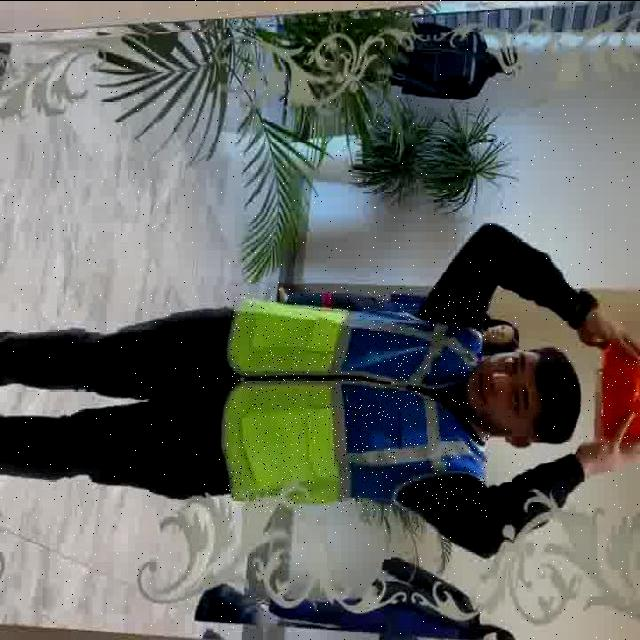Helmet: (602, 338, 640, 451)
Vest: (224, 288, 490, 512)
